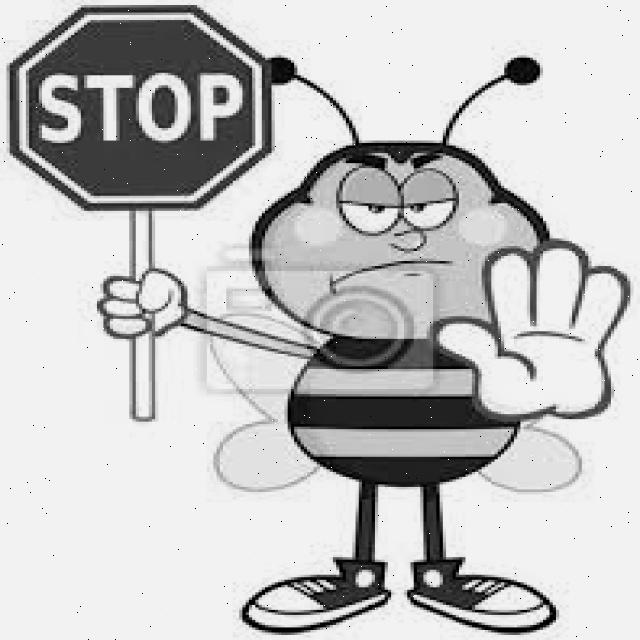stop sign: (6, 8, 272, 211)
